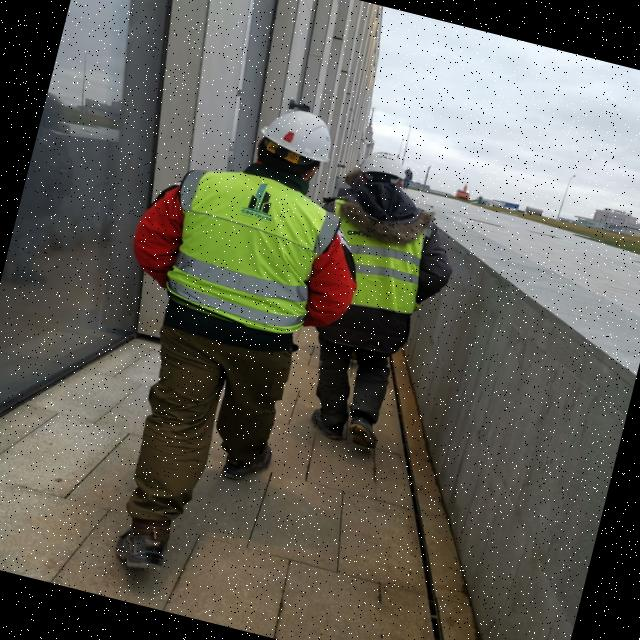Helmet: (255, 101, 346, 173), (361, 147, 414, 189)
Jacket: (168, 144, 343, 342), (349, 193, 444, 313)
